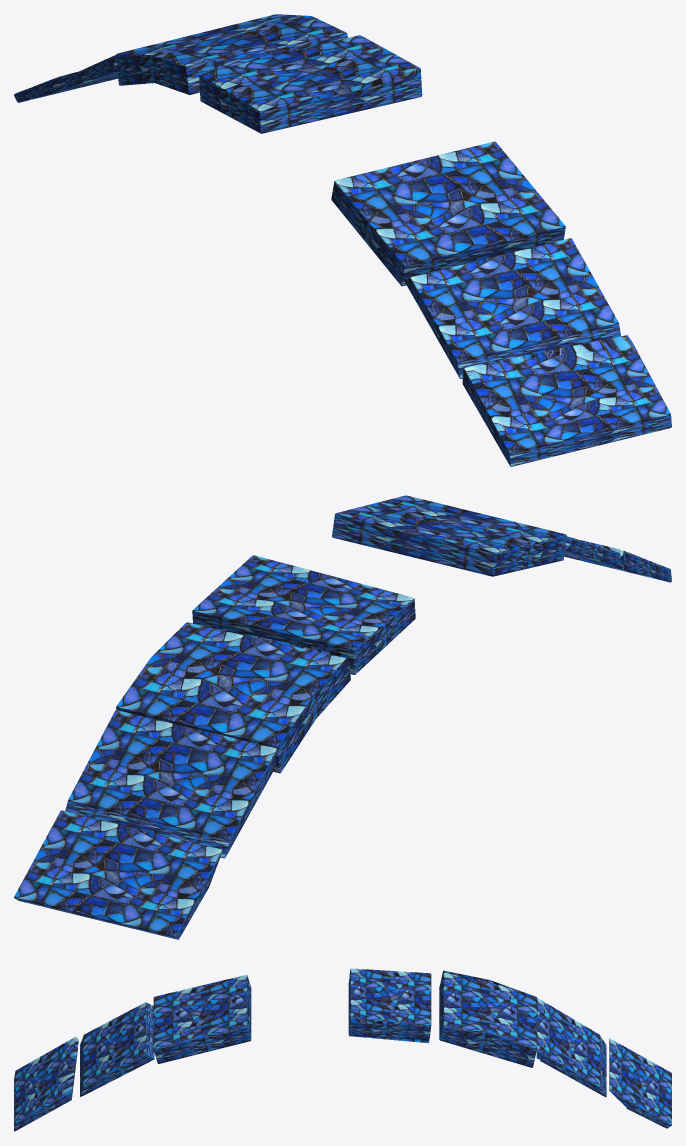
Rendered from bridgeBrokenGlass_lowPoly.glb.
3 renders of one model, top to bottom at view 1: azimuth 30°, elevation 25°; view 2: azimuth 150°, elevation 25°; view 3: azimuth 270°, elevation 25°, orthographic. The views are drawn at different scales.
Visible parts, largest first — view 1: Mesh_168.006; view 2: Mesh_168.006; view 3: Mesh_168.006.
Boxes of the visible parts, x1,y1,x2,y2 form: Mesh_168.006: (14, 14, 671, 466); Mesh_168.006: (14, 495, 671, 939); Mesh_168.006: (14, 968, 671, 1131).
Bounding box in the file's own units: 0.7706 × 0.7709 × 4.
1 material, 1 textured.
